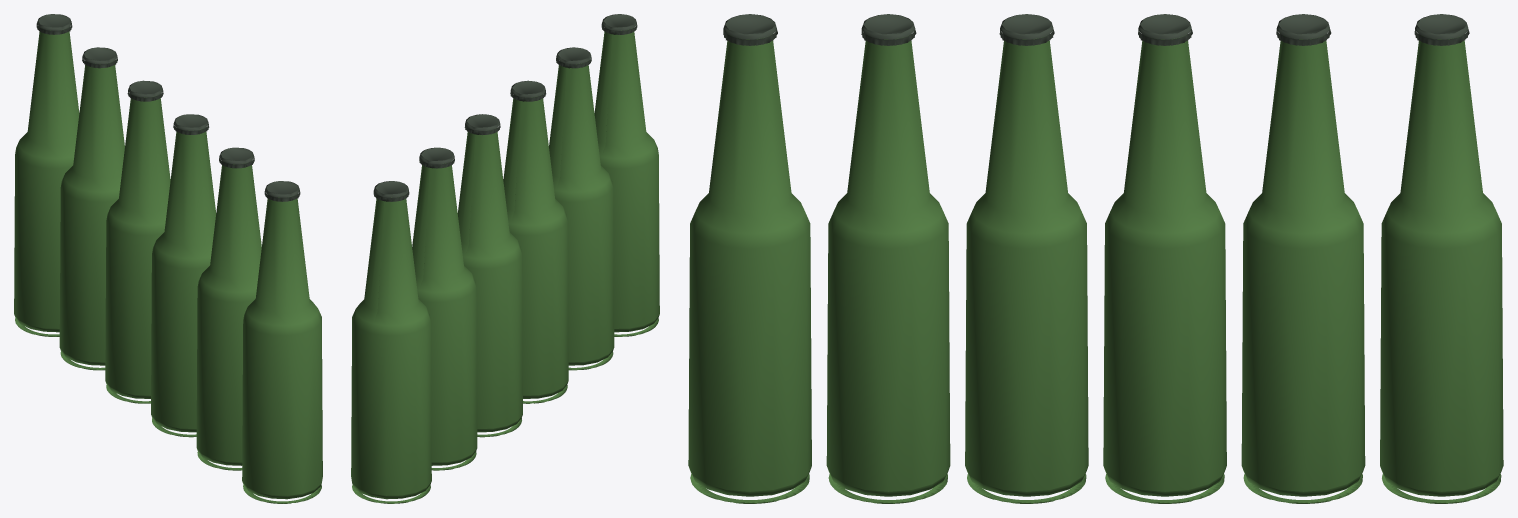
The model's file is beerbottle_edited_6x1.gltf.
3 views of the same model, side by side, from view 1: azimuth 30°, elevation 25°; view 2: azimuth 150°, elevation 25°; view 3: azimuth 270°, elevation 25° (orthographic). The views are drawn at different scales.
Visible parts, largest first — view 1: GARRAFA, GARRAFA_VIDRO DENTRO_0.004, GARRAFA_VIDRO DENTRO_0.001, GARRAFA_VIDRO DENTRO_0.003, GARRAFA_VIDRO DENTRO_0.005, GARRAFA_VIDRO DENTRO_0.002, GARRAFA_TAMPA_0.005, GARRAFA_TAMPA_0.001, GARRAFA_TAMPA_0.002, GARRAFA_TAMPA_0.004, GARRAFA_TAMPA_0.003; view 2: GARRAFA_VIDRO DENTRO_0.005, GARRAFA, GARRAFA_VIDRO DENTRO_0.002, GARRAFA_VIDRO DENTRO_0.001, GARRAFA_VIDRO DENTRO_0.004, GARRAFA_VIDRO DENTRO_0.003, GARRAFA_TAMPA_0.001, GARRAFA_TAMPA_0.004, GARRAFA_TAMPA_0.002, GARRAFA_TAMPA_0.005, GARRAFA_TAMPA_0.003; view 3: GARRAFA, GARRAFA_VIDRO DENTRO_0.003, GARRAFA_VIDRO DENTRO_0.002, GARRAFA_VIDRO DENTRO_0.005, GARRAFA_VIDRO DENTRO_0.004, GARRAFA_VIDRO DENTRO_0.001, GARRAFA_TAMPA_0.003, GARRAFA_TAMPA_0.005, GARRAFA_TAMPA_0.001, GARRAFA_TAMPA_0.002, GARRAFA_TAMPA_0.004.
Boxes of the visible parts, box(x1,y1,x2,y2) form: GARRAFA: box(242, 181, 322, 503); GARRAFA_VIDRO DENTRO_0.004: box(59, 63, 124, 370); GARRAFA_VIDRO DENTRO_0.001: box(196, 161, 261, 470); GARRAFA_VIDRO DENTRO_0.003: box(105, 96, 170, 403); GARRAFA_VIDRO DENTRO_0.005: box(14, 28, 79, 336); GARRAFA_VIDRO DENTRO_0.002: box(151, 128, 216, 437); GARRAFA_TAMPA_0.005: box(36, 14, 72, 34); GARRAFA_TAMPA_0.001: box(219, 147, 254, 168); GARRAFA_TAMPA_0.002: box(173, 114, 209, 134); GARRAFA_TAMPA_0.004: box(82, 47, 117, 68); GARRAFA_TAMPA_0.003: box(127, 80, 163, 101); GARRAFA_VIDRO DENTRO_0.005: box(351, 195, 431, 503); GARRAFA: box(594, 14, 659, 336); GARRAFA_VIDRO DENTRO_0.002: box(503, 95, 568, 403); GARRAFA_VIDRO DENTRO_0.001: box(549, 63, 614, 370); GARRAFA_VIDRO DENTRO_0.004: box(412, 161, 477, 470); GARRAFA_VIDRO DENTRO_0.003: box(457, 128, 522, 437); GARRAFA_TAMPA_0.001: box(556, 47, 591, 68); GARRAFA_TAMPA_0.004: box(419, 147, 454, 168); GARRAFA_TAMPA_0.002: box(510, 80, 546, 101); GARRAFA_TAMPA_0.005: box(373, 181, 409, 201); GARRAFA_TAMPA_0.003: box(464, 114, 500, 135); GARRAFA: box(688, 14, 811, 503); GARRAFA_VIDRO DENTRO_0.003: box(1103, 35, 1226, 503); GARRAFA_VIDRO DENTRO_0.002: box(965, 36, 1088, 503); GARRAFA_VIDRO DENTRO_0.005: box(1380, 35, 1503, 503); GARRAFA_VIDRO DENTRO_0.004: box(1241, 35, 1365, 503); GARRAFA_VIDRO DENTRO_0.001: box(826, 35, 950, 503); GARRAFA_TAMPA_0.003: box(1138, 14, 1192, 45); GARRAFA_TAMPA_0.005: box(1414, 14, 1469, 45); GARRAFA_TAMPA_0.001: box(861, 14, 916, 45); GARRAFA_TAMPA_0.002: box(999, 14, 1054, 45); GARRAFA_TAMPA_0.004: box(1276, 14, 1331, 45).
Size of the model in its own units: 11.61 by 47.39 by 76.61.
